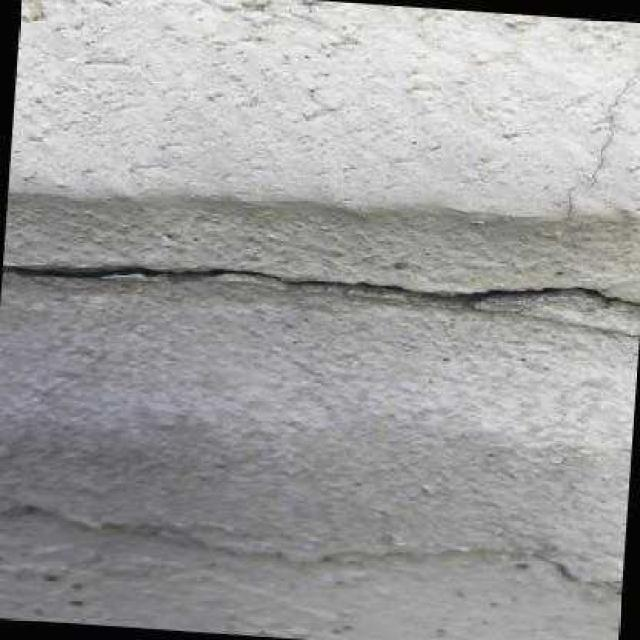D00: (2, 260, 640, 311)
